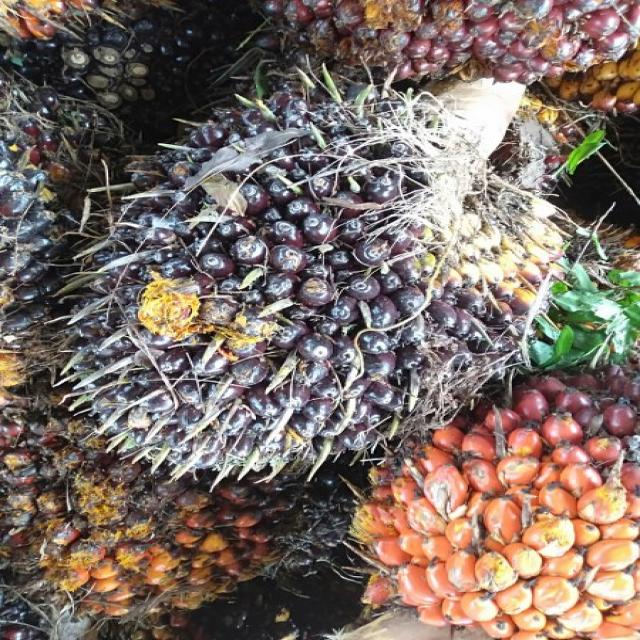fraksi 00: (57, 79, 550, 480)
fraksi 3: (349, 380, 640, 640)
